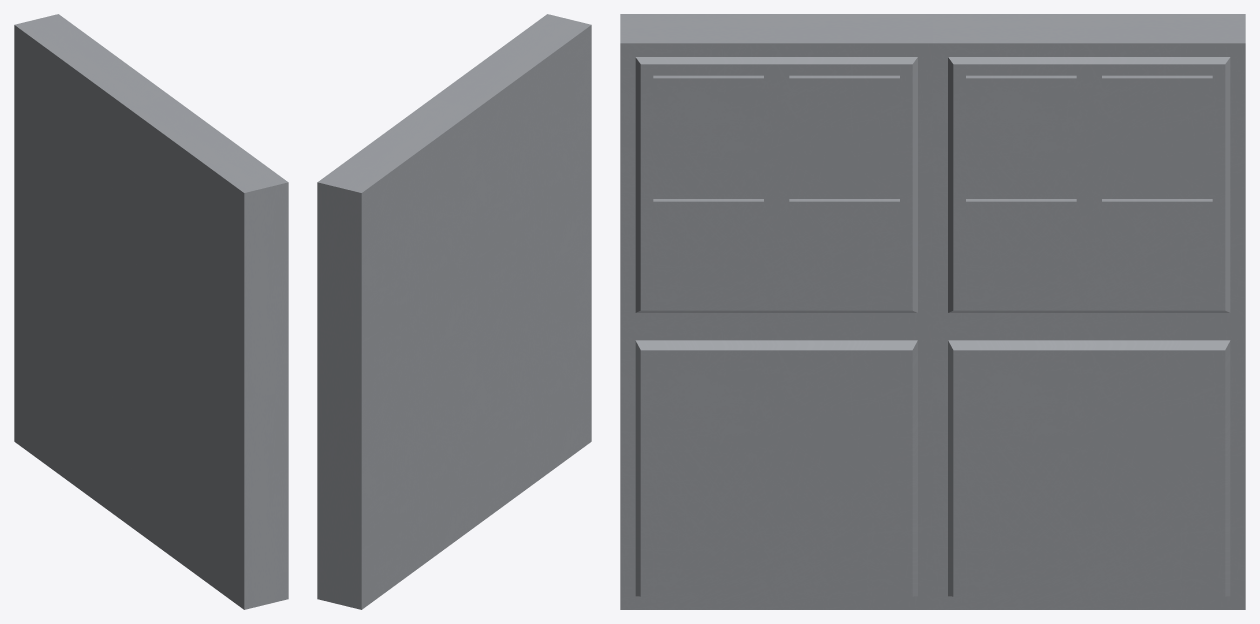
File: Lichtschalter.fbx
The picture shows the model from 3 angles, left to right: view 1: azimuth 30°, elevation 25°; view 2: azimuth 150°, elevation 25°; view 3: azimuth 270°, elevation 25°; orthographic projection. The views are drawn at different scales.
Parts seen in each view (by area): view 1: Cube.001, Cube; view 2: Cube.001, Cube; view 3: Cube.001, Cube.
Boxes of the visible parts, box(x1,y1,x2,y2) form: Cube.001: box(14, 14, 288, 401); Cube: box(14, 233, 288, 609); Cube.001: box(317, 14, 591, 401); Cube: box(317, 233, 591, 609); Cube.001: box(620, 14, 1245, 326); Cube: box(620, 326, 1245, 609).
Size of the model in its own units: 2.35 by 18 by 18.
